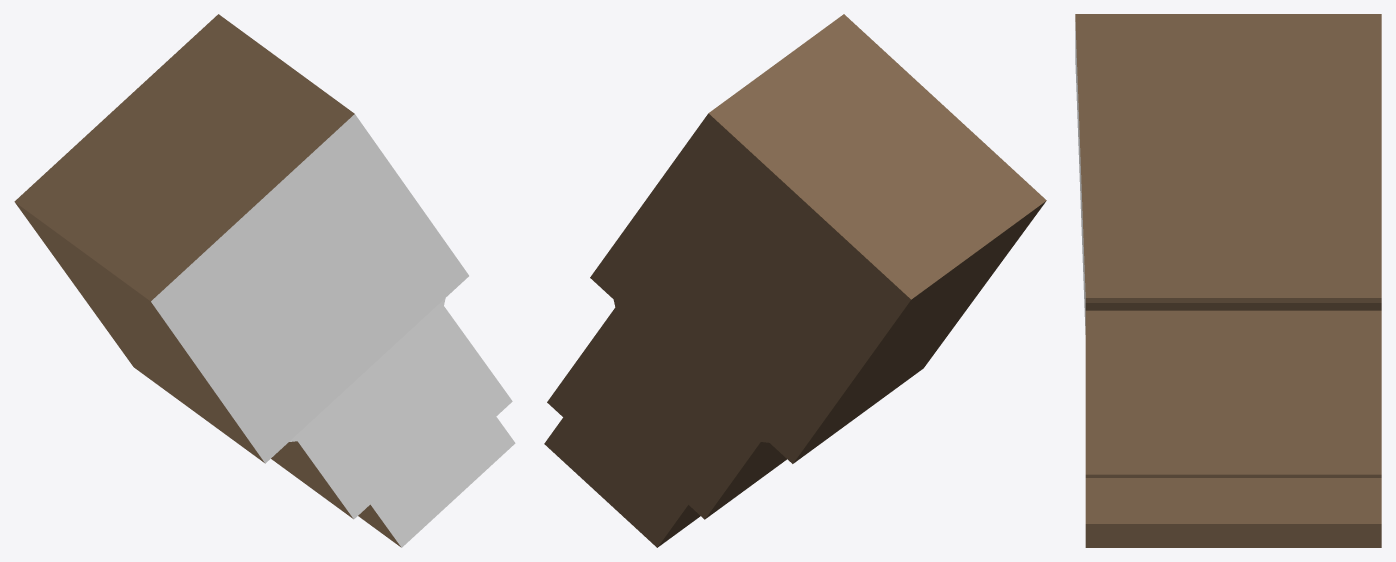
The picture shows the model from 3 angles, left to right: view 1: azimuth 30°, elevation 25°; view 2: azimuth 150°, elevation 25°; view 3: azimuth 270°, elevation 25°; orthographic projection. The views are drawn at different scales.
Parts seen in each view (by area): view 1: City_PC-22597; view 2: City_PC-22597; view 3: City_PC-22597.
Part boxes in pixels (<box>): City_PC-22597: <box>14,14,515,547</box>; City_PC-22597: <box>544,14,1046,547</box>; City_PC-22597: <box>1075,14,1381,547</box>.
Size of the model in its own units: 2333 by 2715 by 1492.
